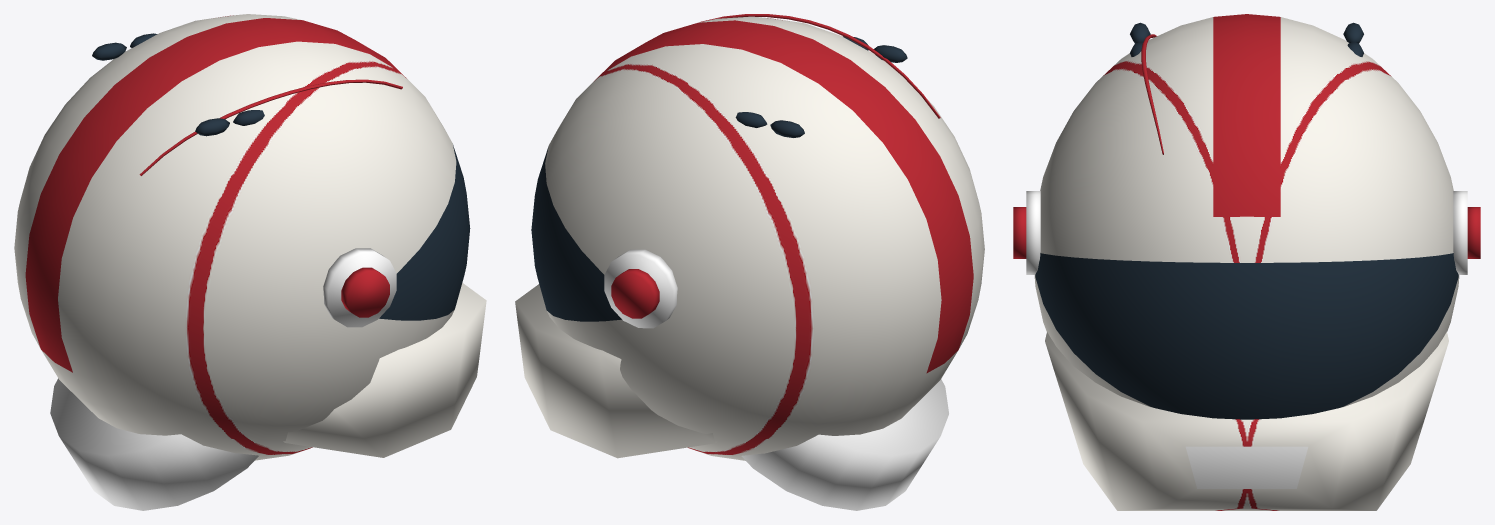
The model's file is Helmet_01_N_白艇・一本朱.glb.
The picture shows the model from 3 angles, left to right: view 1: azimuth 30°, elevation 25°; view 2: azimuth 150°, elevation 25°; view 3: azimuth 270°, elevation 25°; orthographic projection. The views are drawn at different scales.
Visible parts, largest first — view 1: Helmet_01_N, Visor; view 2: Helmet_01_N, Visor; view 3: Helmet_01_N, Visor.
Boxes of the visible parts, x1,y1,x2,y2 form: Helmet_01_N: [14, 14, 486, 510]; Visor: [92, 33, 470, 320]; Helmet_01_N: [515, 14, 984, 510]; Visor: [531, 36, 907, 321]; Helmet_01_N: [1013, 14, 1480, 510]; Visor: [1035, 22, 1458, 419].
Size of the model in its own units: 0.301 by 0.305 by 0.289.
Materials: 3 (3 with a texture image).
